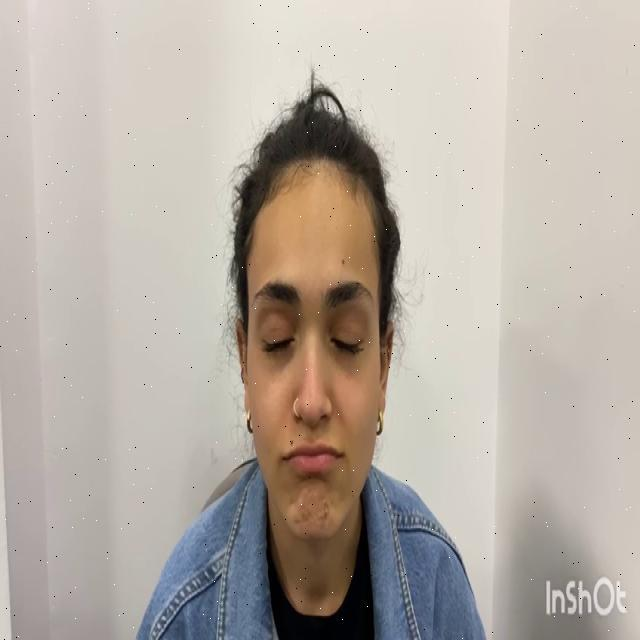Neutral: (236, 152, 395, 534)
